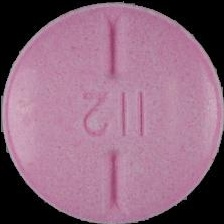69189-9296: (0, 0, 224, 224)
